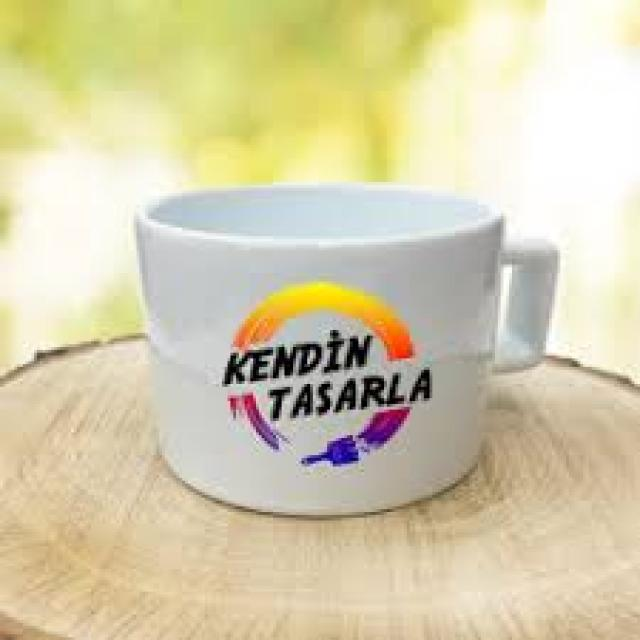taza: (135, 182, 558, 520)
